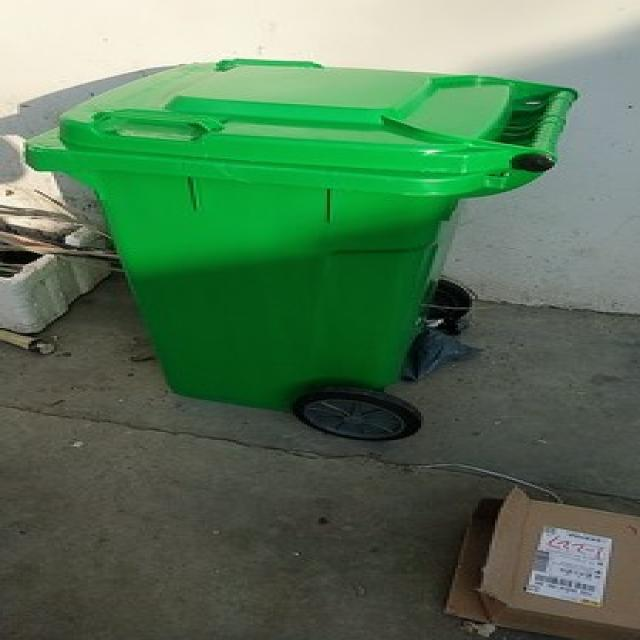ash bin: (23, 56, 577, 438)
